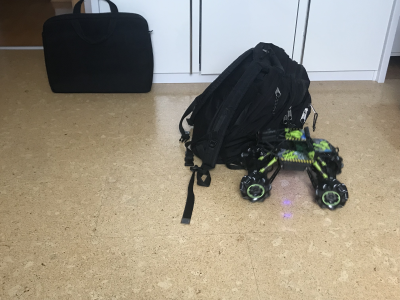remote control car: (240, 127, 352, 214)
